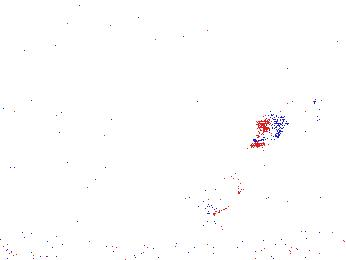flame jellyfish: (251, 86, 323, 147), (187, 162, 241, 218), (245, 156, 299, 209)
